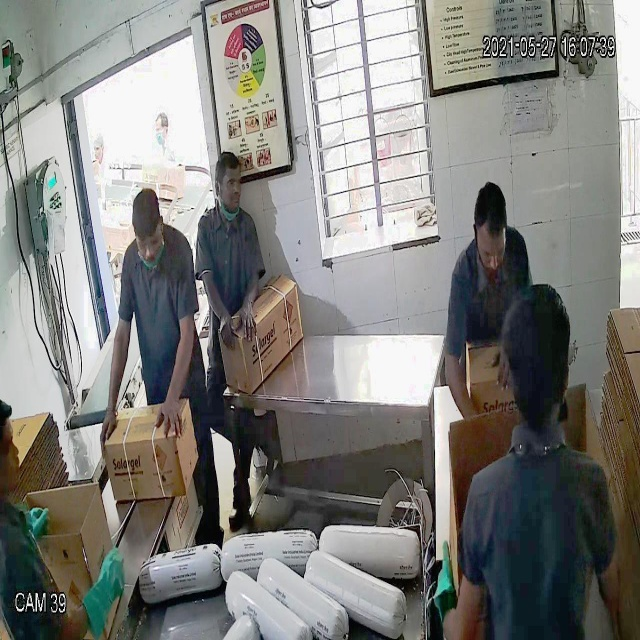Sin_gafas: (131, 226, 170, 260)
